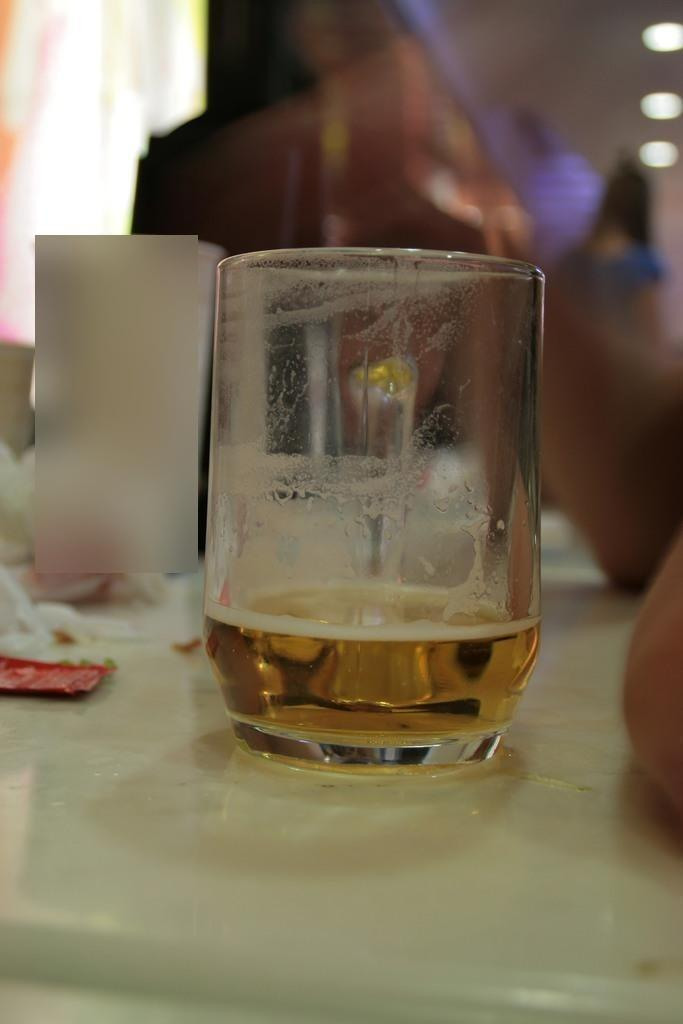glass-normal: (205, 246, 545, 774)
